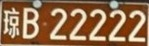B: (23, 8, 39, 39)
